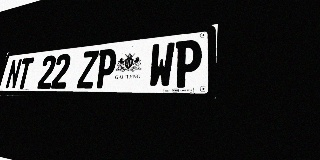2: (51, 53, 72, 89), (37, 55, 57, 89)
N: (5, 59, 23, 89)
P: (173, 39, 202, 88), (94, 48, 118, 88)
T: (16, 57, 34, 89)
W: (147, 42, 175, 88)
Z: (76, 50, 99, 89)
